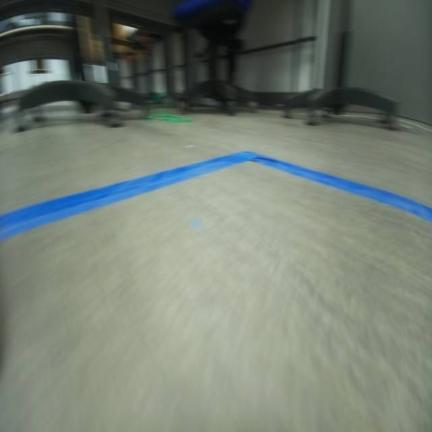place: (1, 148, 431, 431)
